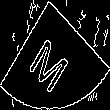M_NE: (31, 20, 79, 90)
